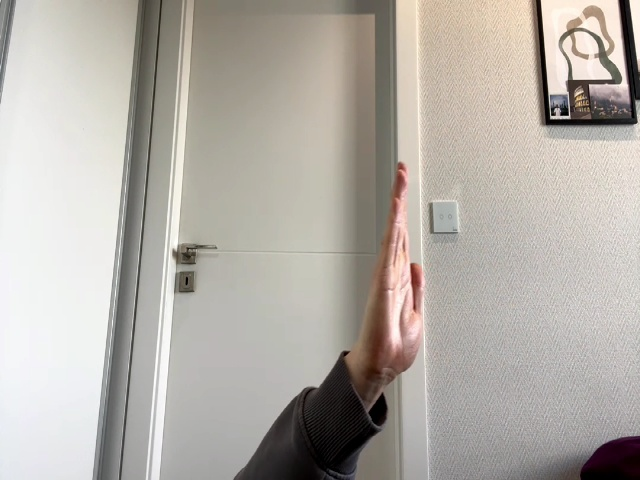SZ: (366, 162, 425, 385)
